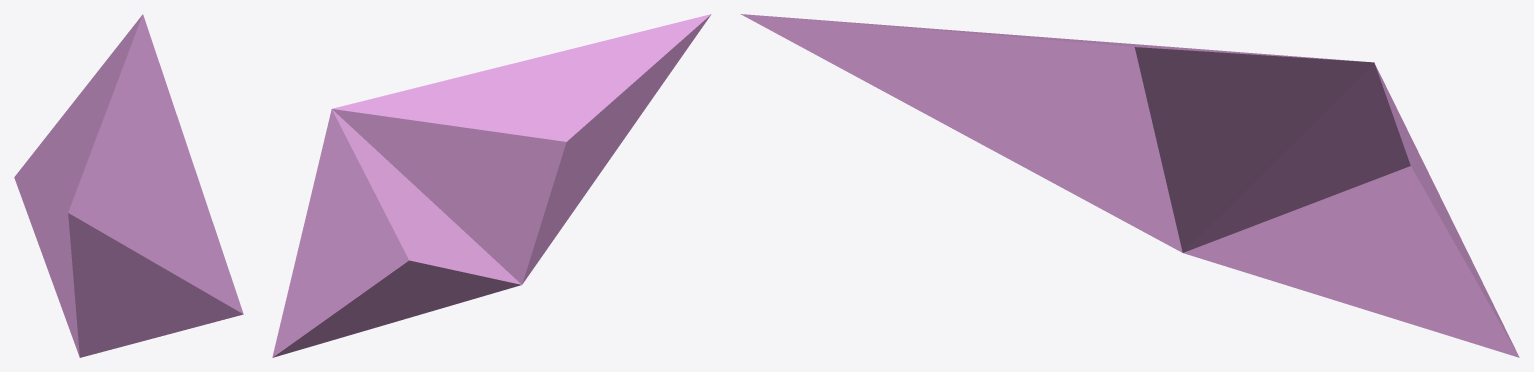
File: TYPE8-1.glb
The picture shows the model from 3 angles, left to right: view 1: azimuth 30°, elevation 25°; view 2: azimuth 150°, elevation 25°; view 3: azimuth 270°, elevation 25°; orthographic projection. The views are drawn at different scales.
Parts seen in each view (by area): view 1: TYPE8-1 (×3); view 2: TYPE8-1 (×6); view 3: TYPE8-1 (×6).
Part boxes in pixels (<box>): TYPE8-1 (×3): <box>14,14,243,357</box>; TYPE8-1 (×6): <box>272,14,711,357</box>; TYPE8-1 (×6): <box>740,14,1519,357</box>.
Size of the model in its own units: 3.69 by 4.8 by 11.65.
